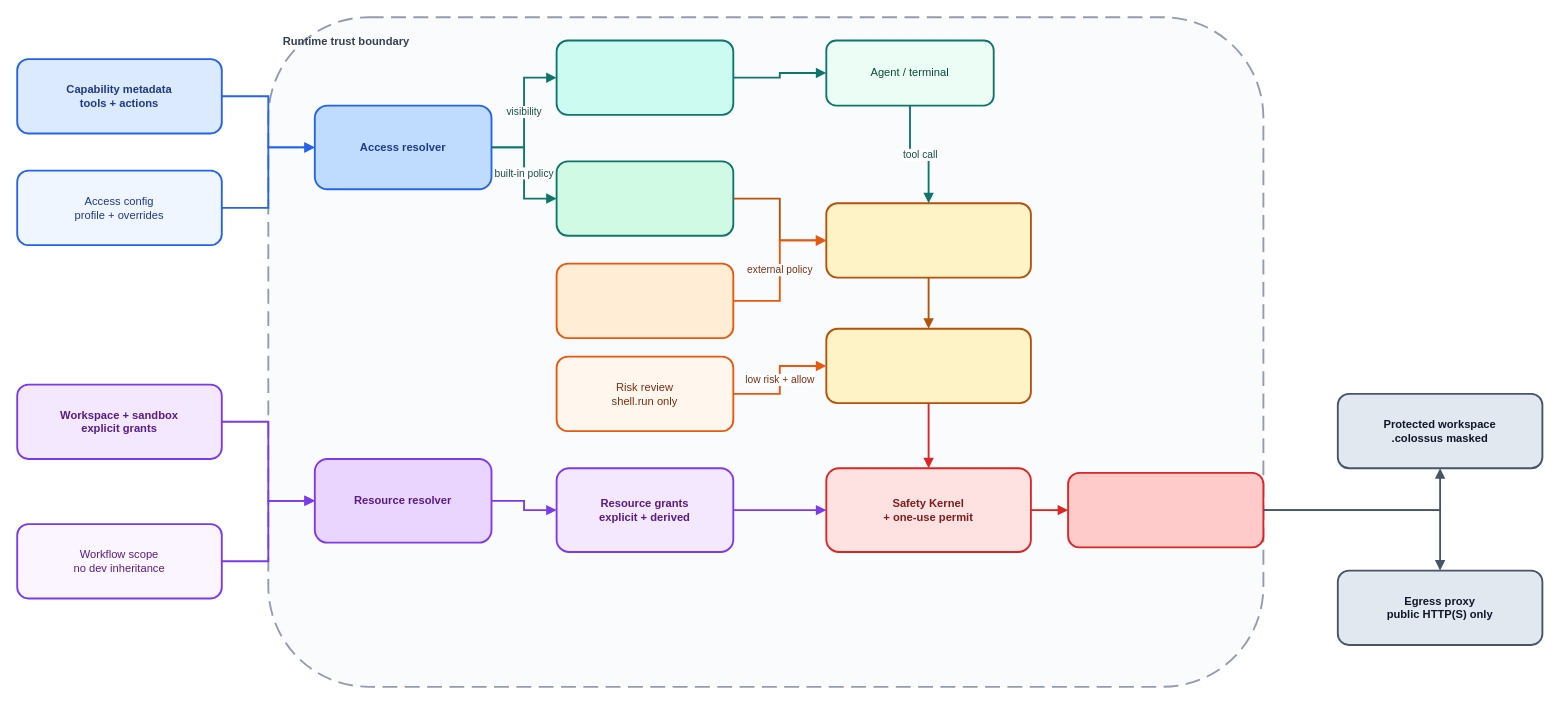
This 1559x703 diagram has some shape labels left out. Here are the shapes that lost their labels. From the top down, the centre of each, then its label:
(x=644, y=77): Model-visible tool catalog
(x=644, y=198): Built-in action decision
(x=928, y=240): Authorization decision
(x=644, y=300): OPA decision replaces built-in
(x=928, y=365): Approval / request proof
(x=1165, y=510): Sandboxed adapter
